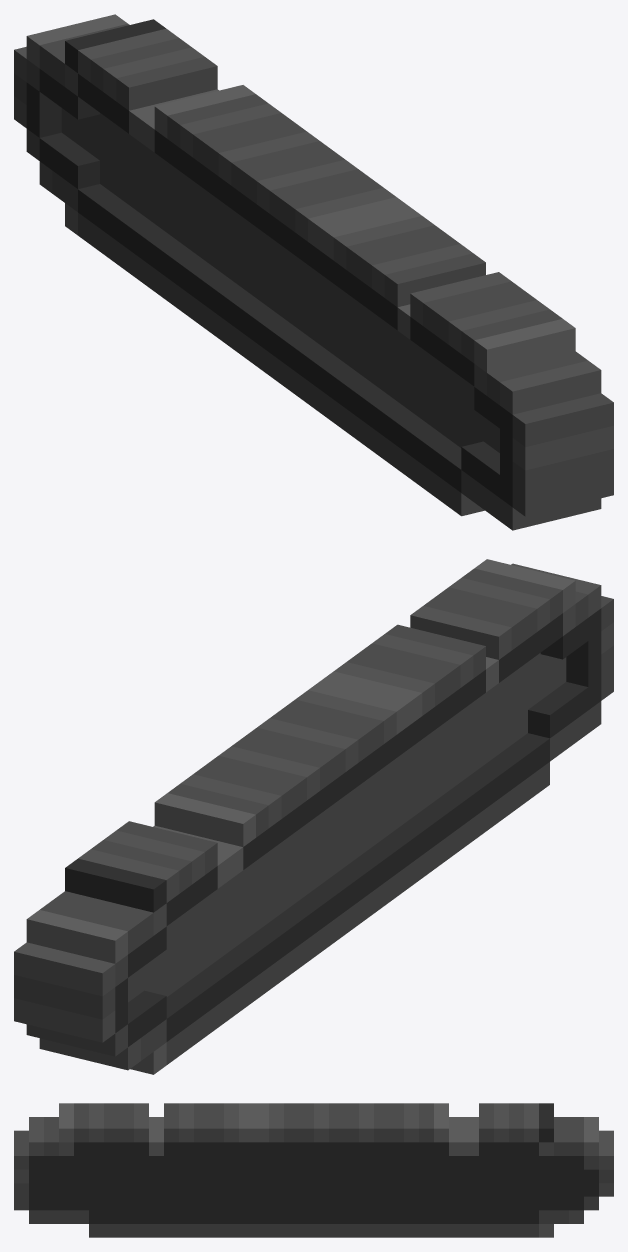
File: firsttank-16.obj
3 views of the same model, one above another, from view 1: azimuth 30°, elevation 25°; view 2: azimuth 150°, elevation 25°; view 3: azimuth 270°, elevation 25° (orthographic). The views are drawn at different scales.
Bounding box in the file's own units: 0.4 × 0.8 × 4.
1 material, 1 textured.
